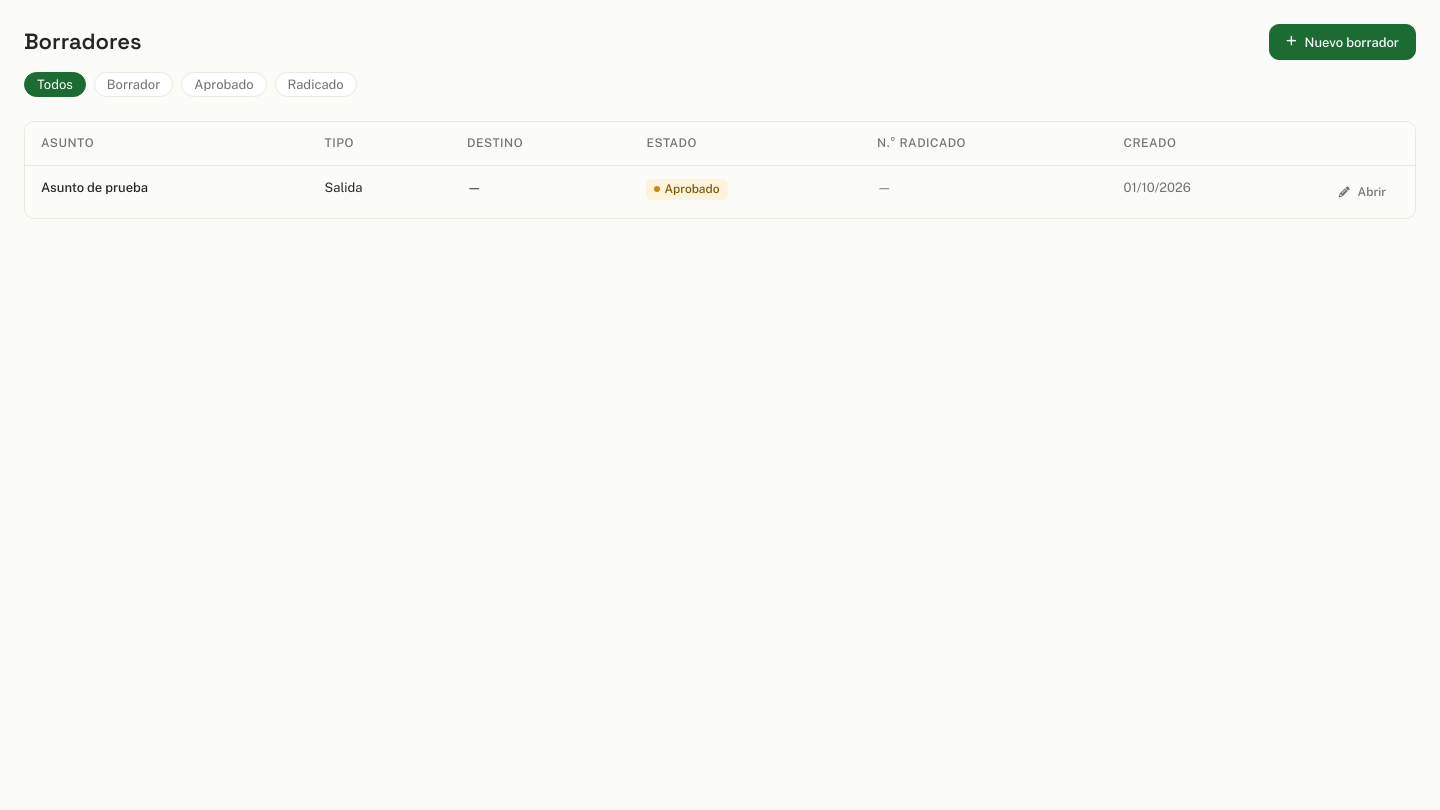
Test: borradores — radicar con datos mínimos › Salida sin dependencia activa: no hay botón de radicar y se explica
The image size is (1440, 810).
Click the button named "Editar borrador Asunto de prueba": (1362, 192) [1326,178,1399,206]
(page scrolled)
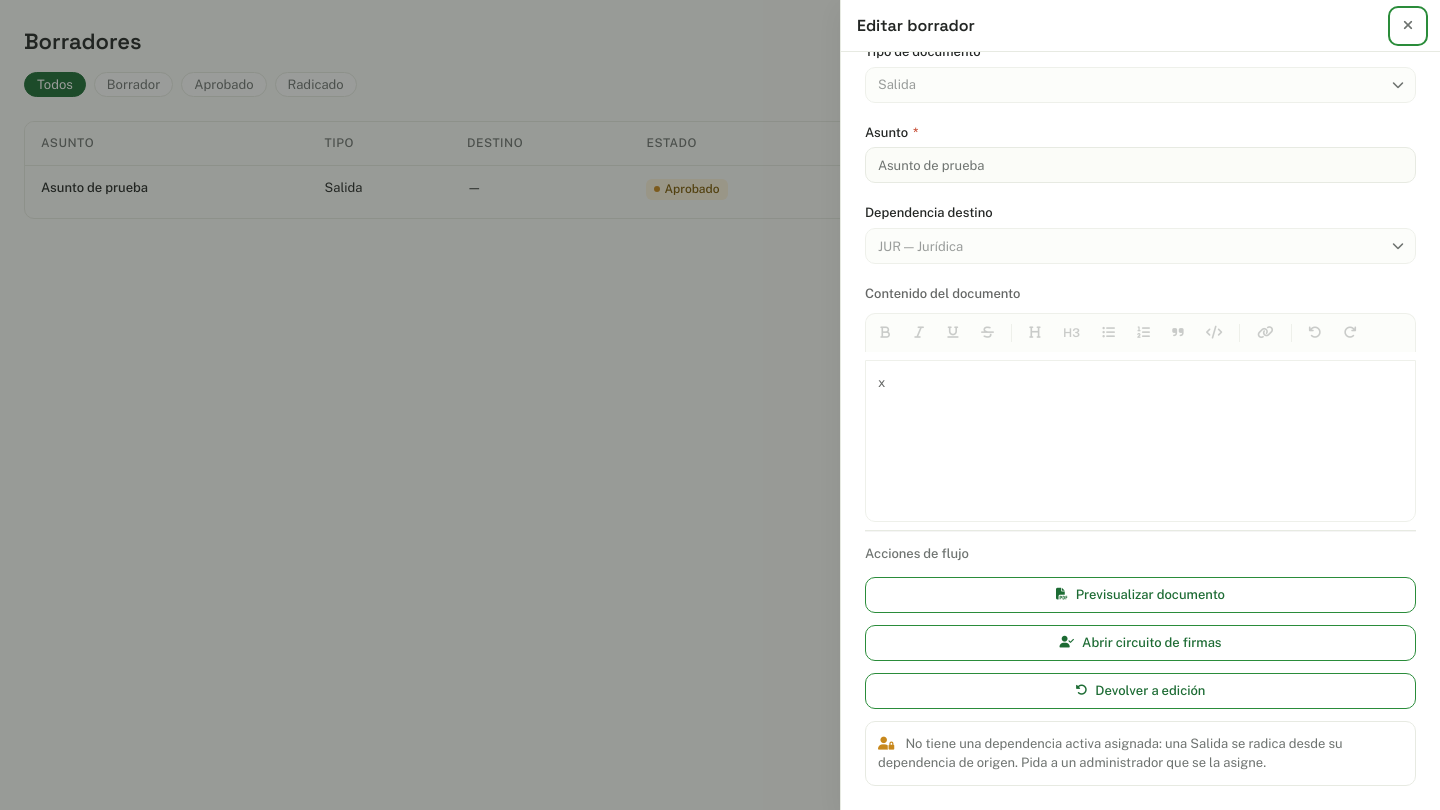
Now the text "No tiene una dependencia activa asignada" is shown, box [878,736,1343,770]
